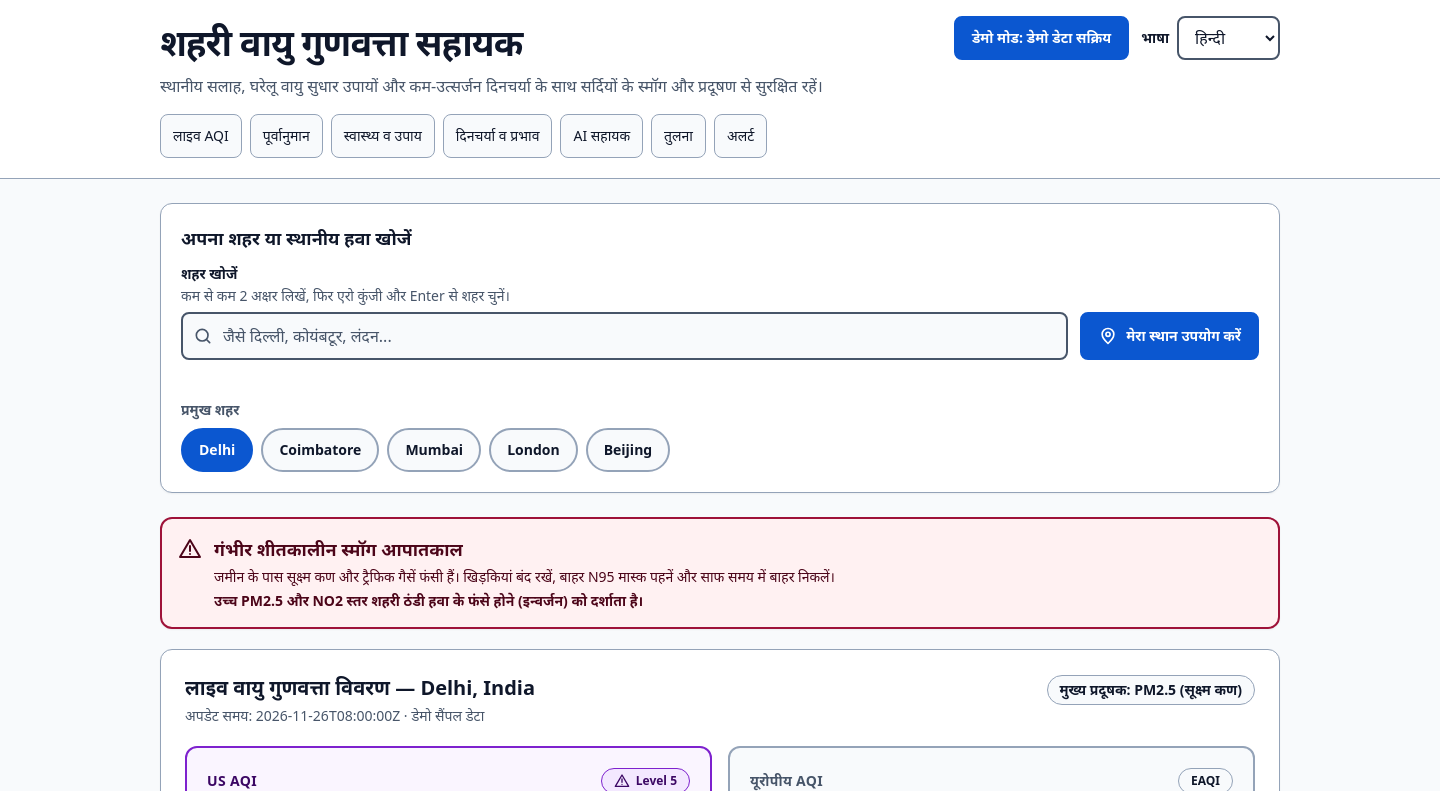
it: UrbanAirWorkbench restores persisted locale, switches hi/ta/en, and toggles demo
Earlier steps of the test are not shown.
Select "தமிழ்" in the dropdown labelled "भाषा" at (1228,38), box [1177,16,1280,60]
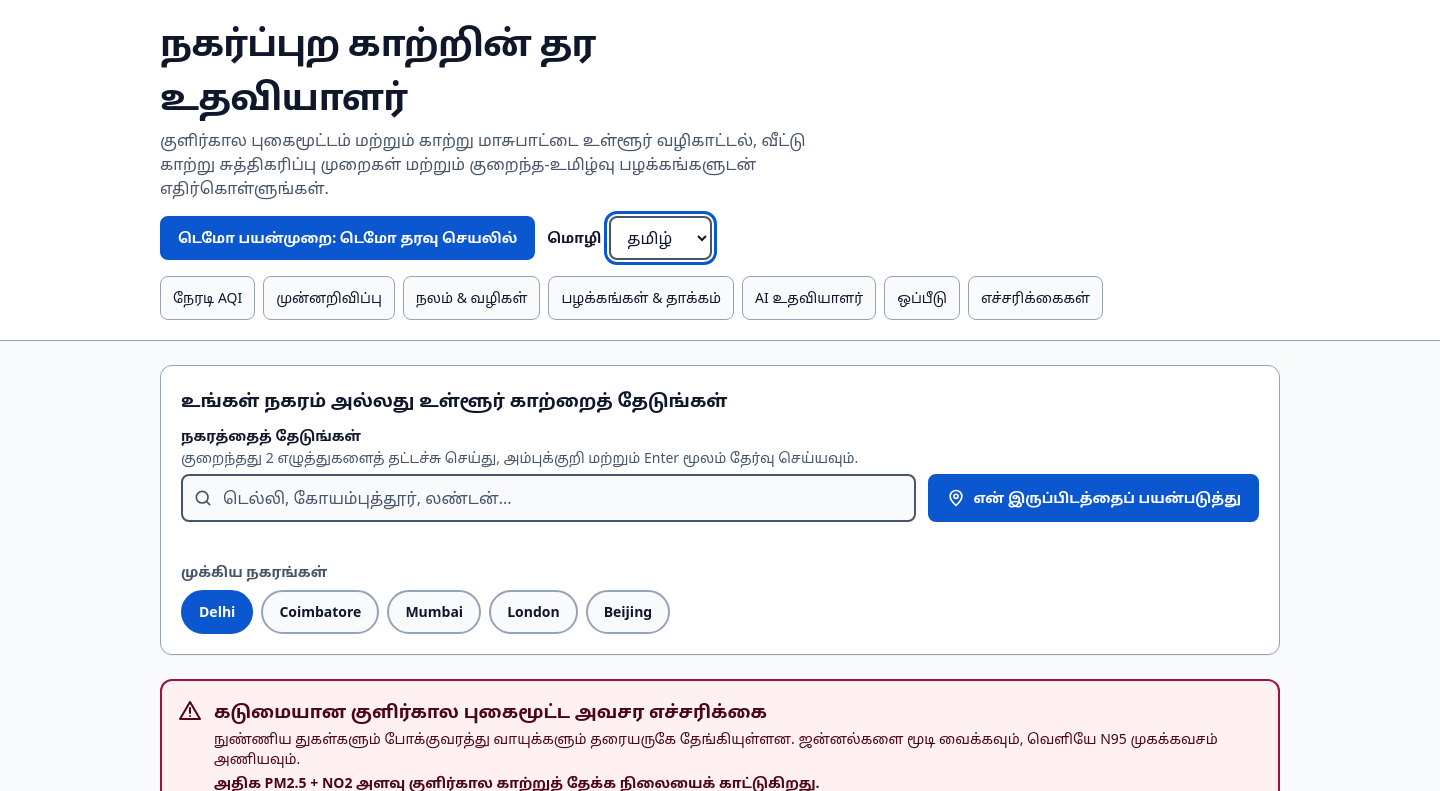
Select "English" in the dropdown labelled "மொழி" at (661,238), box [609,216,712,260]
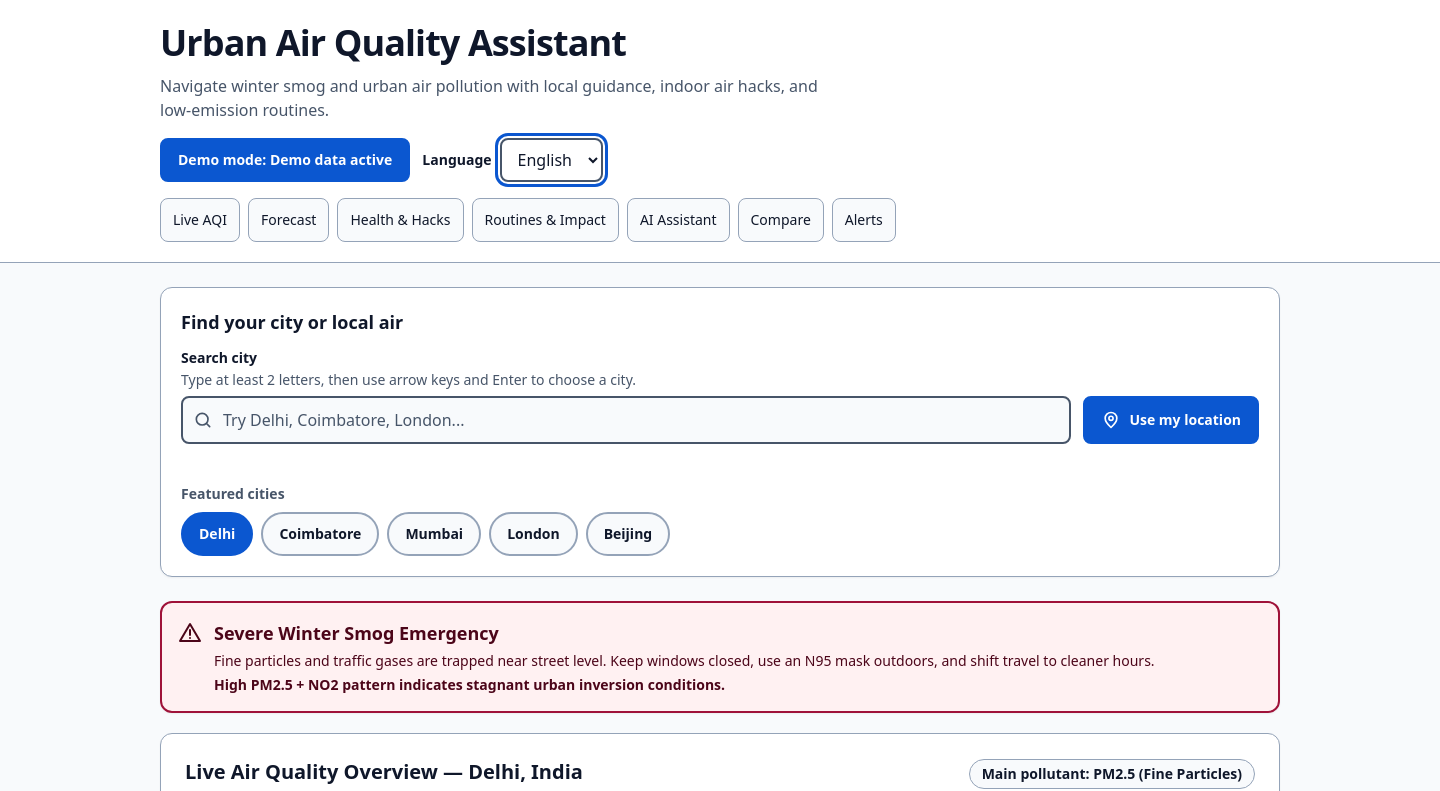
Click the switch.
click(285, 160)  # box [160,138,410,182]
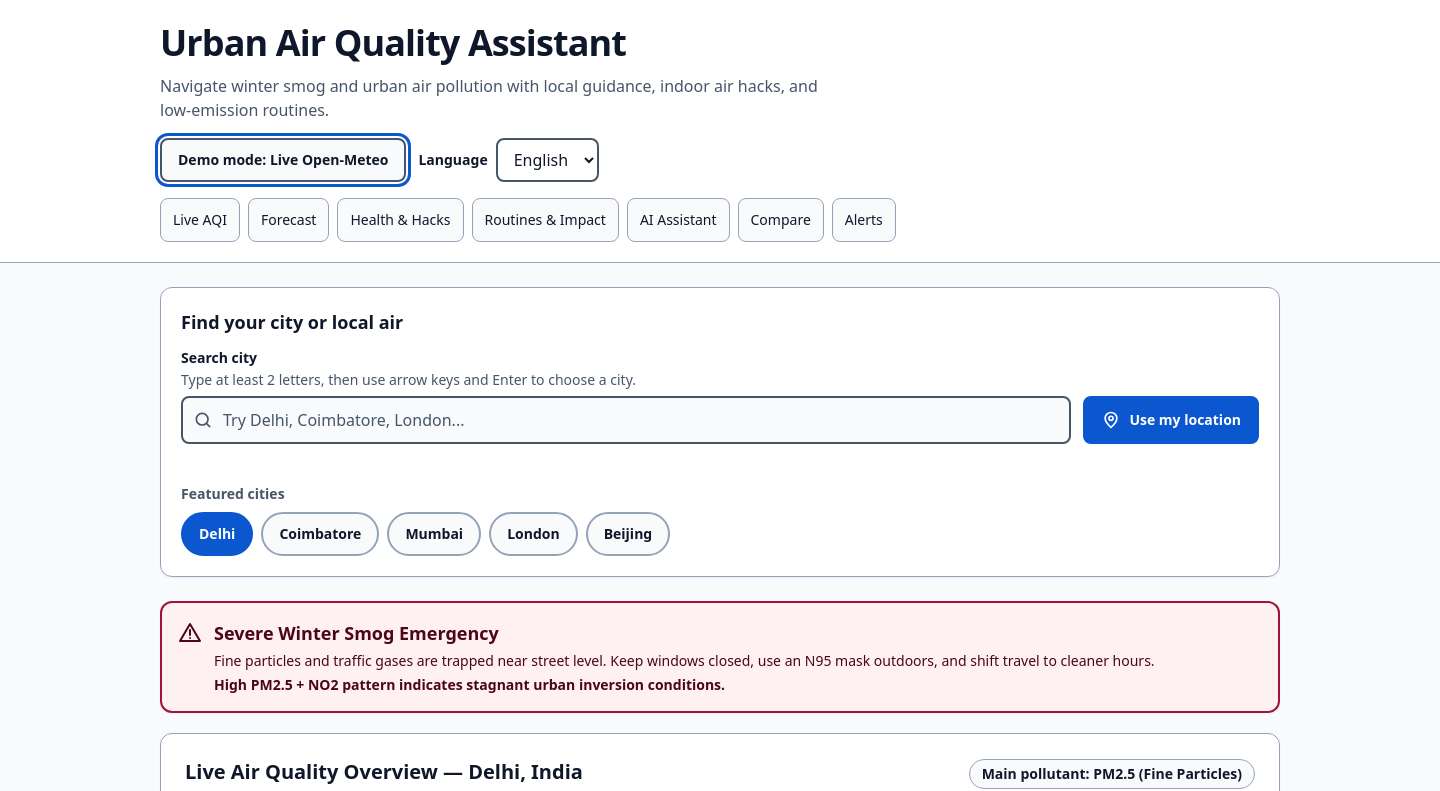
Expected: the switch is not checked, [160,138,406,182]
